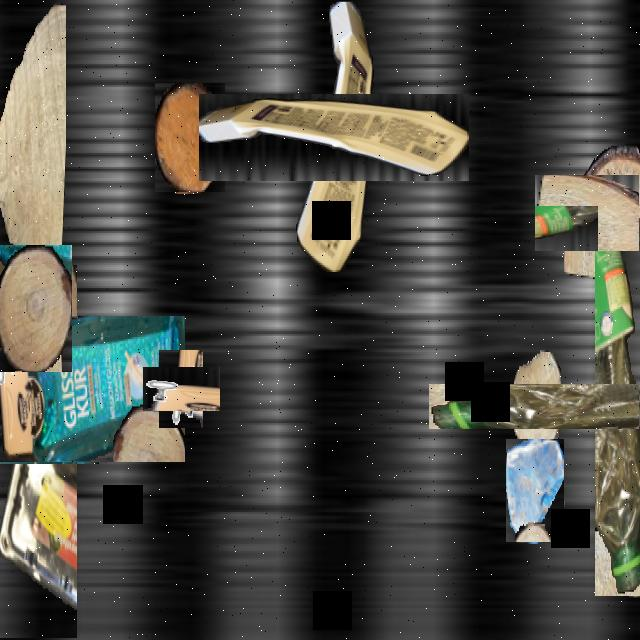glass: (506, 439, 564, 542)
metal: (150, 359, 212, 420)
plastic: (244, 48, 423, 226), (0, 265, 77, 638), (511, 301, 640, 512), (0, 316, 185, 462)
wood: (0, 2, 65, 282), (549, 160, 640, 266), (0, 245, 72, 374), (155, 84, 225, 194), (513, 350, 561, 457)
